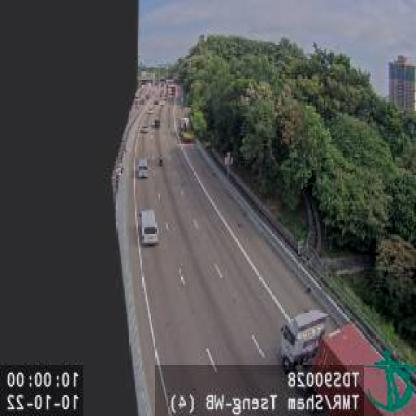Car: (141, 208, 160, 245), (137, 158, 148, 177)
Truck: (279, 309, 416, 416)
